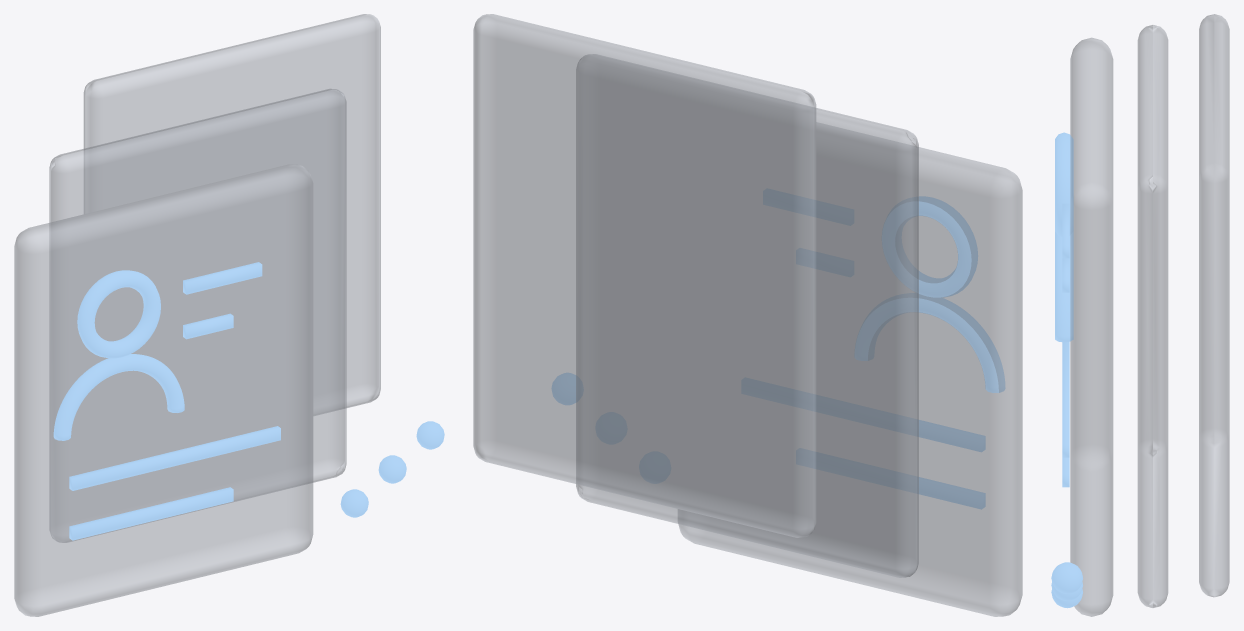
The model's file is doublons.glb.
3 views of the same model, side by side, from view 1: azimuth 30°, elevation 25°; view 2: azimuth 150°, elevation 25°; view 3: azimuth 270°, elevation 25° (orthographic). The views are drawn at different scales.
Visible parts, largest first — view 1: fiche, copie1, copie2, tete, epaules, ligne2.001, ligne3.001, ligne0.001, ligne1.001, synchro2, synchro0, synchro1; view 2: copie2, copie1, fiche, tete, epaules, ligne2.001, ligne3.001, ligne0.001, ligne1.001, synchro2, synchro0, synchro1; view 3: fiche, copie1, copie2, tete, epaules, ligne2.001, synchro2, ligne0.001, ligne1.001.
Part boxes in pixels (x1,y1,x2,y2): fiche: (14,164,313,616); copie1: (49,88,346,542); copie2: (83,14,380,415); tete: (77,270,160,358); epaules: (53,354,184,440); ligne2.001: (69,426,280,490); ligne3.001: (69,487,233,540); ligne0.001: (183,262,262,294); ligne1.001: (183,313,233,339); synchro2: (416,421,444,449); synchro0: (340,489,368,517); synchro1: (378,455,406,483); copie2: (473,14,816,537); copie1: (576,54,918,577); fiche: (678,122,1022,616); tete: (882,196,977,297); epaules: (854,293,1005,392); ligne2.001: (742,378,985,452); ligne3.001: (796,448,985,509); ligne0.001: (763,189,853,225); ligne1.001: (796,248,853,276); synchro2: (551,372,583,405); synchro0: (639,452,670,483); synchro1: (596,412,626,443); fiche: (1070,37,1113,616); copie1: (1137,25,1168,607); copie2: (1199,14,1229,597); tete: (1055,132,1073,236); epaules: (1055,231,1073,342); ligne2.001: (1062,342,1069,457); synchro2: (1051,562,1082,593); ligne0.001: (1062,203,1069,258); ligne1.001: (1062,258,1069,292).
Size of the model in its own units: 0.88 by 0.94 by 0.291.
